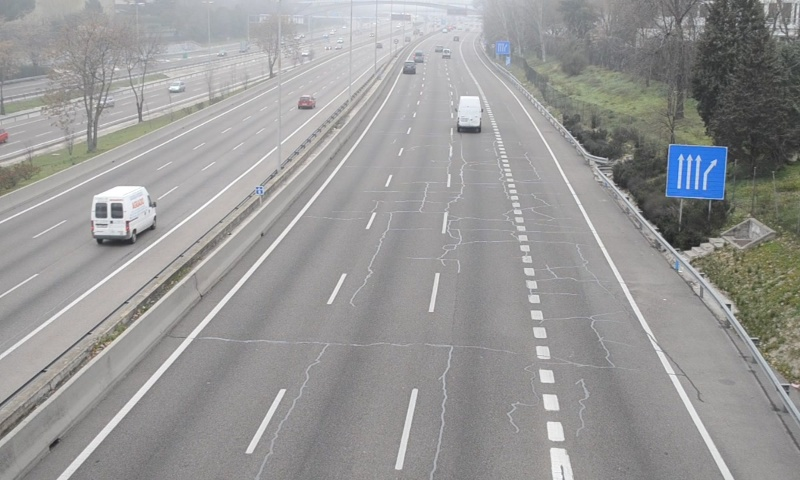van: (456, 95, 484, 132)
